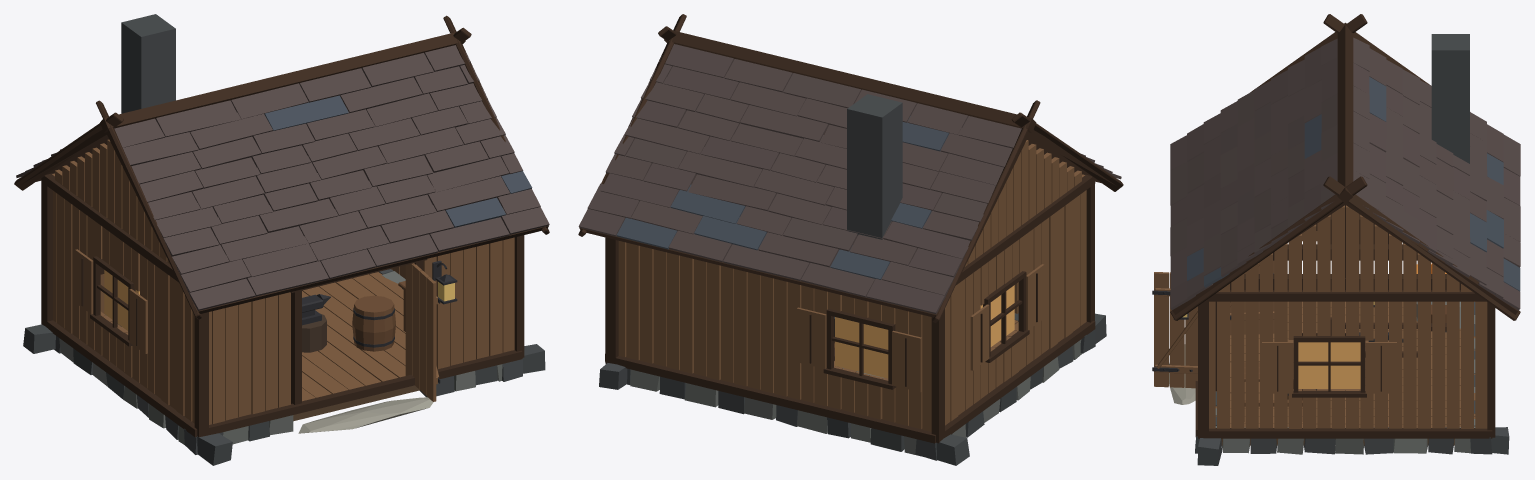
The model's file is Smithy_A.glb.
3 views of the same model, side by side, from view 1: azimuth 30°, elevation 25°; view 2: azimuth 150°, elevation 25°; view 3: azimuth 270°, elevation 25° (orthographic). The views are drawn at different scales.
Parts seen in each view (by area): view 1: Roof__Shingle, WallLeft__Plank, FrameOut__Timber, WallFrontL__Plank, WallFrontR__Plank, RoofTrim__Timber, Floor__Plank, FoundationB__StoneDark, RoofGables__Plank, ForgeStack__StoneDark, Door2__Plank, RoofB__Slate (+11 smaller); view 2: Roof__Shingle, WallBack__Plank, WallLeft__Plank, FrameOut__Timber, RoofTrim__Timber, ForgeStack__StoneDark, RoofB__Slate, FoundationB__StoneDark, WindowsShutters__Shutter, RoofGables__Plank, WindowsFrames__Timber, Foundation__Stone (+2 smaller); view 3: Roof__Shingle, WallRight__Plank, RoofGables__Plank, FrameOut__Timber, RoofTrim__Timber, ForgeStack__StoneDark, RoofB__Slate, Door2__Plank, FoundationB__StoneDark, WindowsShutters__Shutter, WindowsPanes__Window, Floor__Plank (+5 smaller).
Boxes of the visible parts, box(x1,y1,x2,y2) form: Roof__Shingle: box(16, 45, 549, 310); WallLeft__Plank: box(52, 173, 194, 423); FrameOut__Timber: box(41, 171, 524, 437); WallFrontL__Plank: box(209, 292, 290, 424); WallFrontR__Plank: box(423, 238, 511, 368); RoofTrim__Timber: box(14, 15, 549, 319); Floor__Plank: box(122, 272, 405, 401); FoundationB__StoneDark: box(23, 269, 545, 465); RoofGables__Plank: box(55, 139, 169, 263); ForgeStack__StoneDark: box(121, 14, 175, 113); Door2__Plank: box(405, 263, 438, 401); RoofB__Slate: box(264, 95, 532, 227); Roof__Shingle: box(578, 44, 1121, 314); WallBack__Plank: box(618, 241, 931, 431); WallLeft__Plank: box(945, 174, 1086, 425); FrameOut__Timber: box(605, 172, 1095, 443); RoofTrim__Timber: box(578, 14, 1123, 322); ForgeStack__StoneDark: box(834, 94, 902, 318); RoofB__Slate: box(616, 116, 948, 279); FoundationB__StoneDark: box(599, 313, 1106, 465); WindowsShutters__Shutter: box(796, 264, 1044, 392); RoofGables__Plank: box(965, 140, 1081, 266); WindowsFrames__Timber: box(809, 271, 1037, 389); Foundation__Stone: box(630, 313, 1082, 456); Roof__Shingle: box(1170, 37, 1520, 310); WallRight__Plank: box(1209, 301, 1487, 428); RoofGables__Plank: box(1218, 205, 1472, 291); FrameOut__Timber: box(1195, 290, 1495, 438); RoofTrim__Timber: box(1170, 14, 1520, 320); ForgeStack__StoneDark: box(1403, 34, 1469, 243); RoofB__Slate: box(1187, 77, 1520, 291); Door2__Plank: box(1154, 272, 1197, 388); FoundationB__StoneDark: box(1195, 302, 1509, 465); WindowsShutters__Shutter: box(1262, 231, 1396, 393); WindowsPanes__Window: box(1298, 342, 1360, 388); Floor__Plank: box(1215, 301, 1475, 427).
Size of the model in its own units: 0.2574 by 0.2079 by 0.231.
